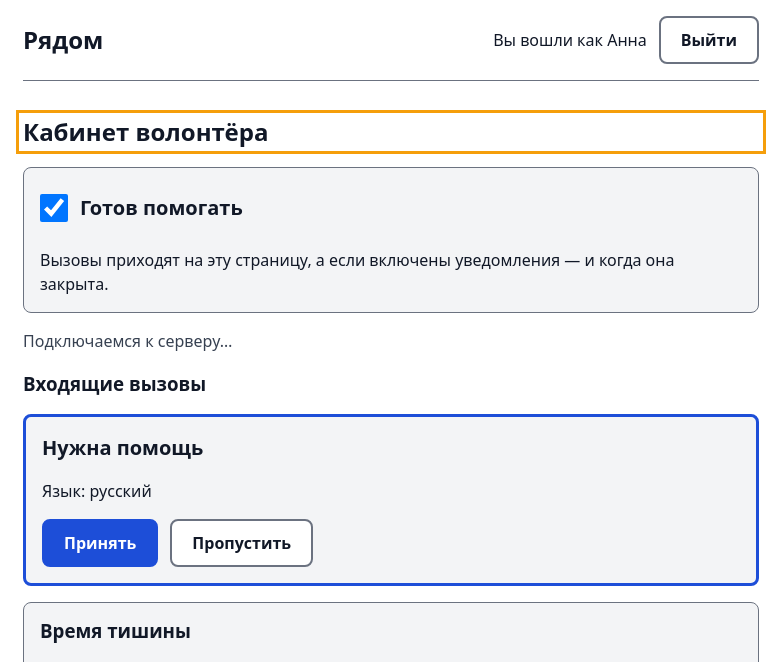
it: volunteer page › shows an unknown error code as a general message
Expected: the heading "Кабинет волонтёра" is shown, [23, 115, 268, 148]
Step 1. Click the button "Принять" → (100, 543), box [42, 519, 158, 567]
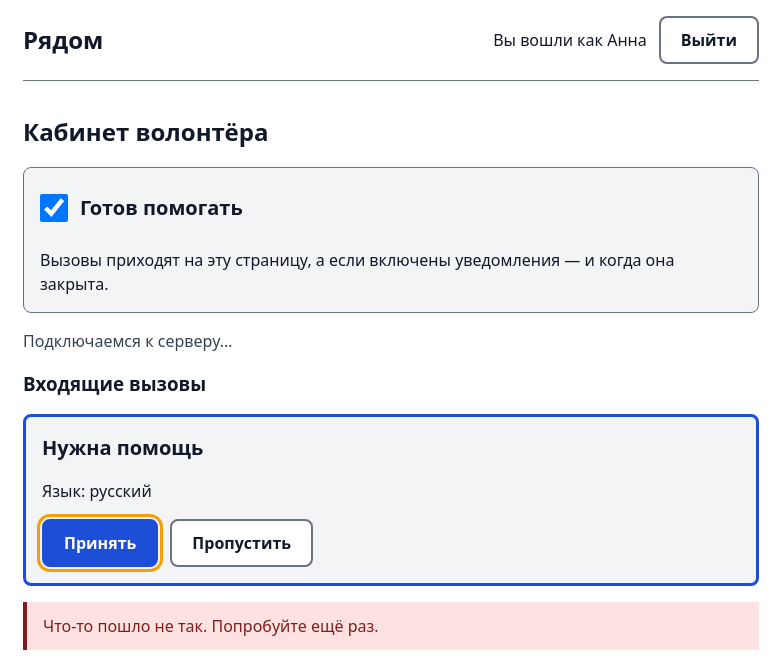
Expected: the list item is shown, [23, 414, 759, 586]
Expected: the message reads "Что-то пошло не так. Попробуйте ещё раз.", [43, 615, 379, 637]
